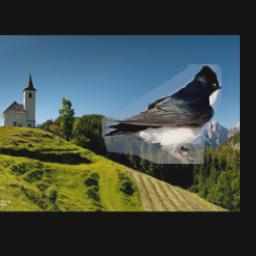Swallow: (103, 64, 223, 164)
